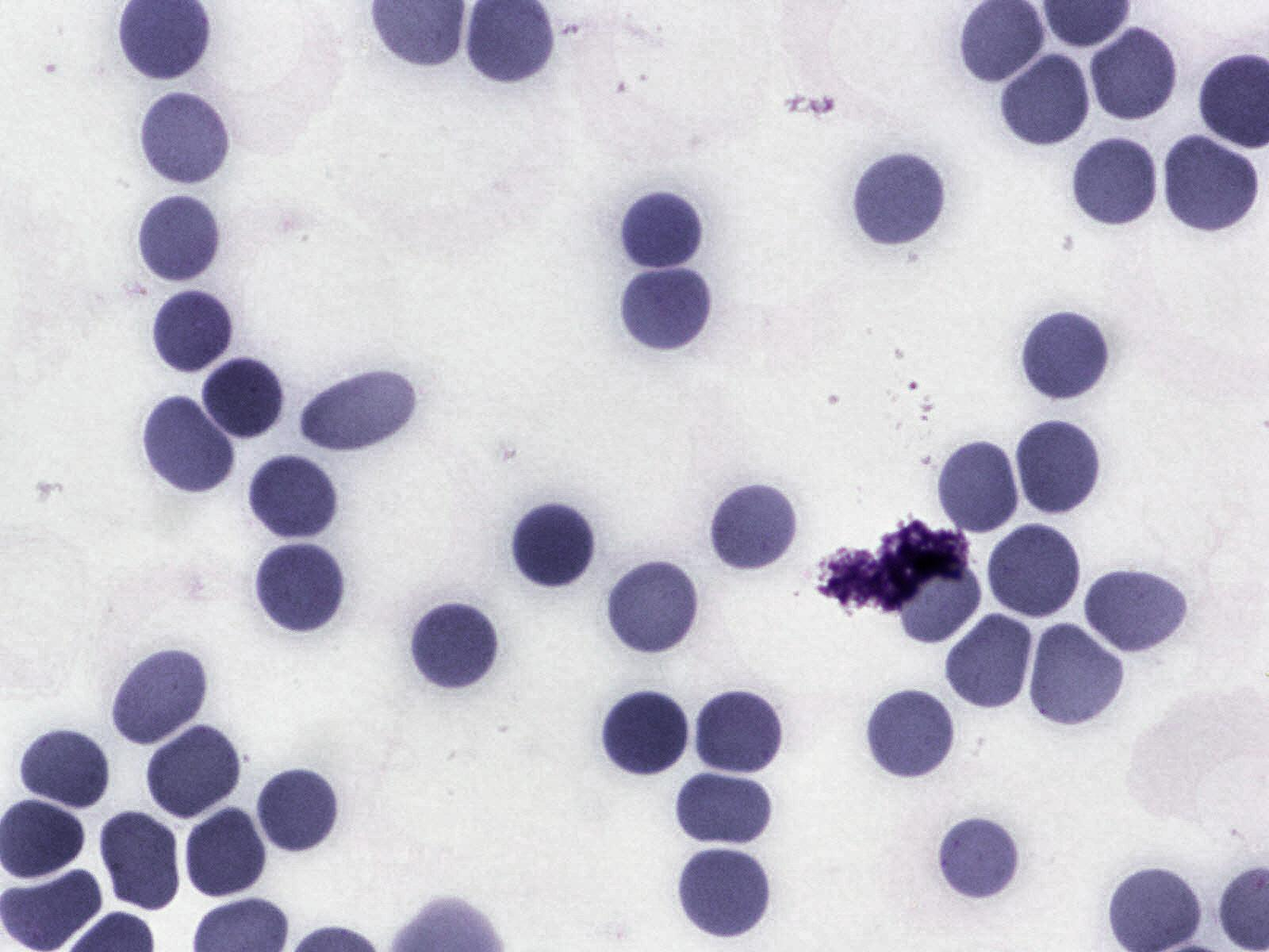Uninfected: (847, 147, 956, 252), (108, 646, 212, 751), (134, 89, 236, 193), (143, 724, 243, 830), (137, 400, 241, 500), (677, 841, 776, 943), (986, 516, 1076, 627), (1082, 566, 1192, 656), (617, 259, 718, 355), (1032, 622, 1122, 728), (704, 481, 806, 574), (301, 370, 416, 451), (99, 804, 185, 912), (247, 448, 342, 544), (1164, 136, 1259, 232), (1014, 415, 1104, 516), (930, 812, 1024, 905), (179, 812, 274, 904), (996, 54, 1088, 148), (133, 191, 224, 286), (687, 695, 792, 776), (251, 770, 347, 858), (936, 440, 1021, 539), (948, 612, 1028, 715), (0, 873, 105, 951), (21, 726, 114, 814), (509, 500, 599, 590), (600, 694, 695, 779), (1023, 304, 1106, 401), (200, 353, 289, 443), (151, 284, 236, 376), (609, 562, 696, 651), (412, 607, 493, 701), (676, 777, 783, 848), (868, 694, 949, 786), (1072, 140, 1156, 228), (618, 189, 707, 272), (1093, 36, 1176, 120), (901, 557, 981, 642), (258, 550, 342, 630)
